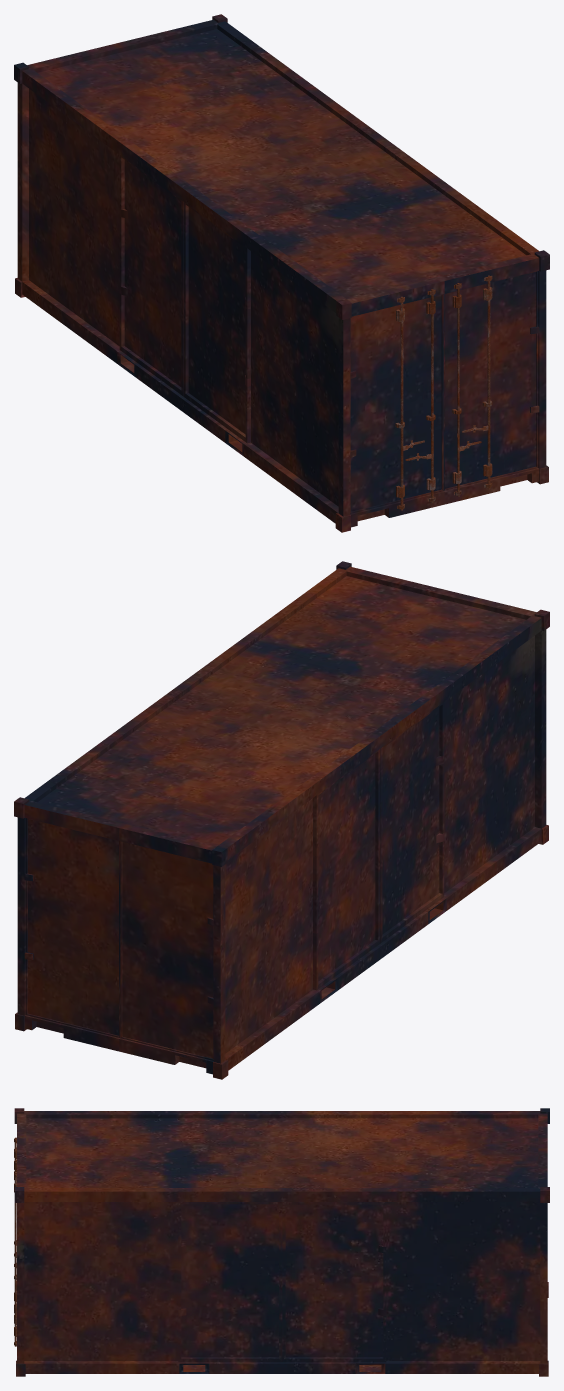
The model's file is lm-container2.glb.
3 views of the same model, one above another, from view 1: azimuth 30°, elevation 25°; view 2: azimuth 150°, elevation 25°; view 3: azimuth 270°, elevation 25° (orthographic). The views are drawn at different scales.
Parts seen in each view (by area): view 1: Cube, Cube.001, Cube.002, Cylinder.000; view 2: Cube, Cube.002, Cube.001; view 3: Cube, Cube.003, Cube.004, Cylinder.000.
Part boxes in pixels (x1,y1,x2,y2): Cube: (14, 14, 549, 532); Cube.001: (183, 202, 250, 443); Cube.002: (119, 155, 183, 396); Cylinder.000: (395, 275, 492, 510); Cube: (14, 561, 549, 1079); Cube.002: (313, 749, 380, 990); Cube.001: (380, 702, 444, 943); Cube: (14, 1108, 549, 1376); Cube.003: (282, 1202, 386, 1362); Cube.004: (178, 1202, 282, 1362); Cylinder.000: (14, 1137, 16, 1346).
Size of the model in its own units: 3.25 by 3.41 by 8.92.
3 materials, 3 textured.
